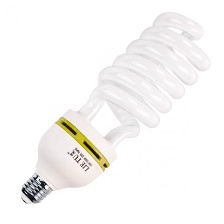light_bulb: (13, 8, 213, 207)
